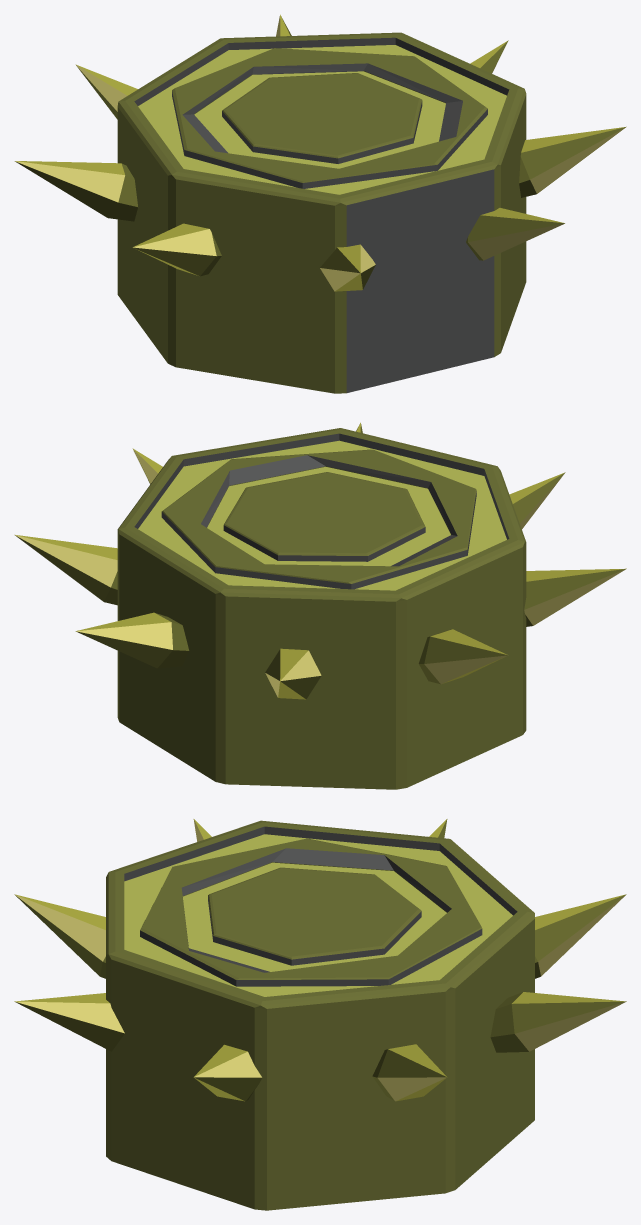
The model's file is gold_spike.fbx.
3 views of the same model, one above another, from view 1: azimuth 30°, elevation 25°; view 2: azimuth 150°, elevation 25°; view 3: azimuth 270°, elevation 25° (orthographic). The views are drawn at different scales.
Parts seen in each view (by area): view 1: gold_spike_body; view 2: gold_spike_body; view 3: gold_spike_body.
Boxes of the visible parts, x1,y1,x2,y2 form: gold_spike_body: (14,14,626,393); gold_spike_body: (14,422,626,789); gold_spike_body: (14,819,626,1210).
Size of the model in its own units: 5.4 by 2 by 5.4.
Materials: 1 (1 with a texture image).
